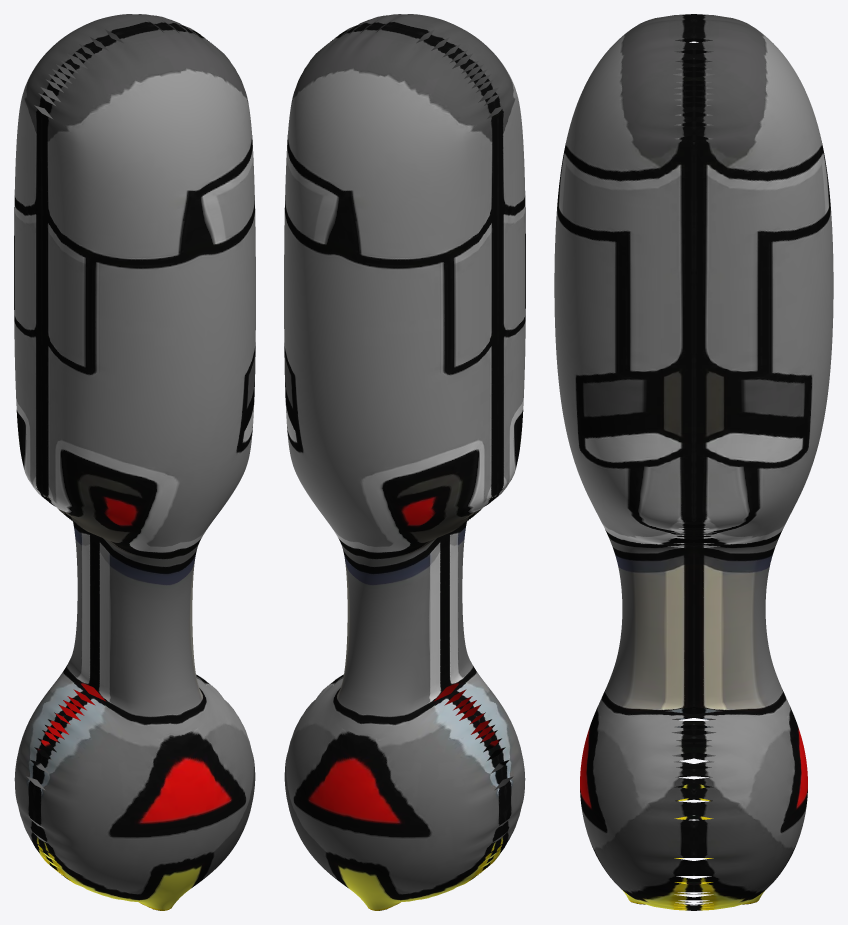
File: piston_unit.glb
The picture shows the model from 3 angles, left to right: view 1: azimuth 30°, elevation 25°; view 2: azimuth 150°, elevation 25°; view 3: azimuth 270°, elevation 25°; orthographic projection.
Visible parts, largest first — view 1: piston_unit; view 2: piston_unit; view 3: piston_unit.
Boxes of the visible parts, x1,y1,x2,y2 form: piston_unit: [14, 14, 255, 910]; piston_unit: [284, 14, 525, 910]; piston_unit: [554, 14, 833, 910].
Bounding box in the file's own units: 0.9567 × 3.89 × 1.13.
1 material, 1 textured.
